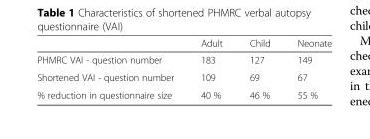table: (36, 37, 331, 100)
table column: (36, 37, 186, 100), (186, 37, 235, 100), (235, 37, 283, 100), (283, 37, 331, 100)
table column header: (36, 37, 331, 51)
table row: (36, 51, 331, 68), (36, 68, 331, 85), (36, 85, 331, 100), (36, 37, 331, 51)
